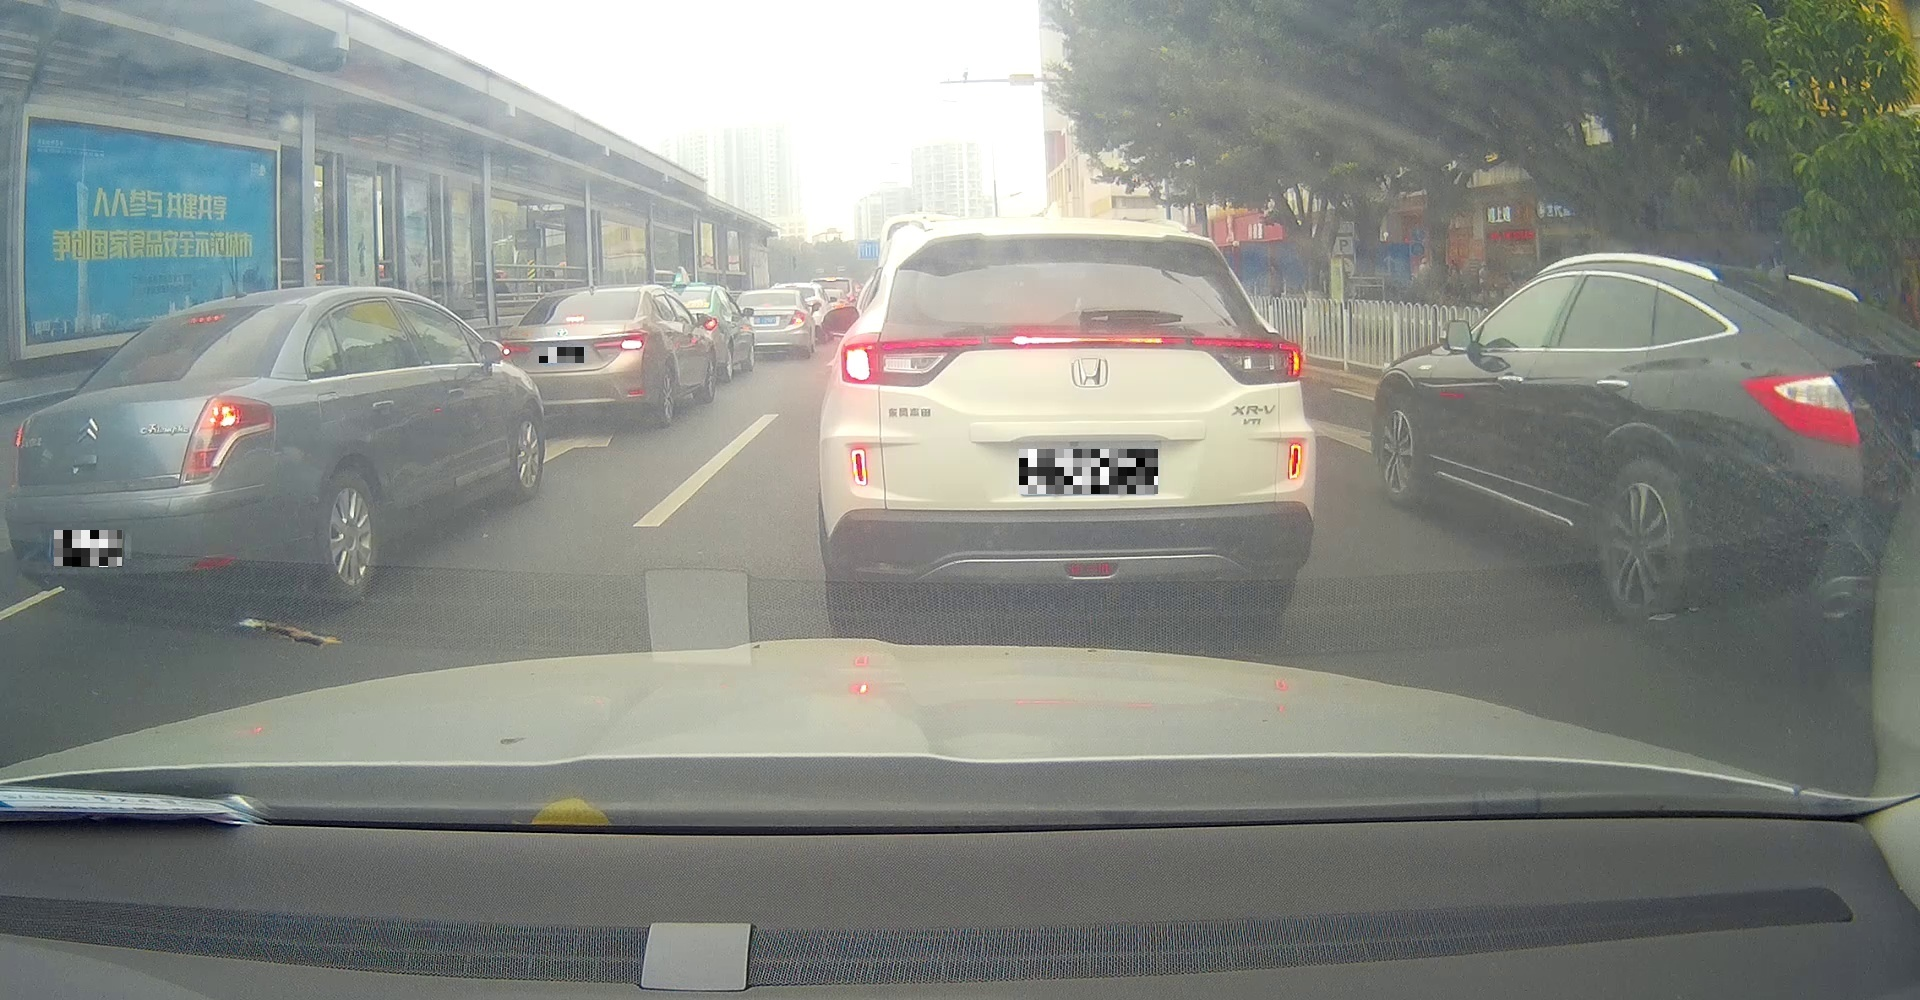L_light: (841, 338, 980, 387), (11, 421, 29, 489), (504, 345, 531, 357)
R_light: (177, 393, 276, 486), (1192, 338, 1302, 386), (594, 338, 644, 350)
T_light: (1011, 335, 1164, 346), (185, 315, 225, 324), (564, 316, 584, 324)
day-brake: (820, 216, 1318, 617), (5, 286, 321, 613), (503, 286, 658, 431)
plate_1: (55, 530, 122, 567)
plate_2: (538, 346, 585, 363)
plate_3: (1018, 449, 1158, 494)
